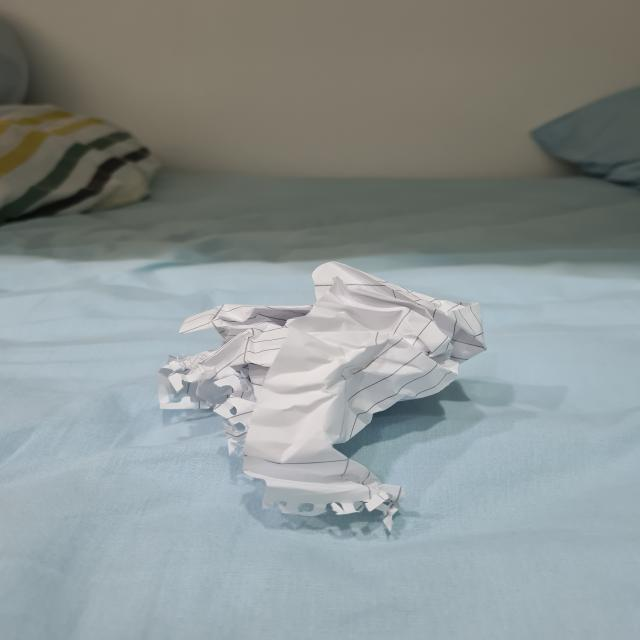Paper: (155, 261, 483, 508)
